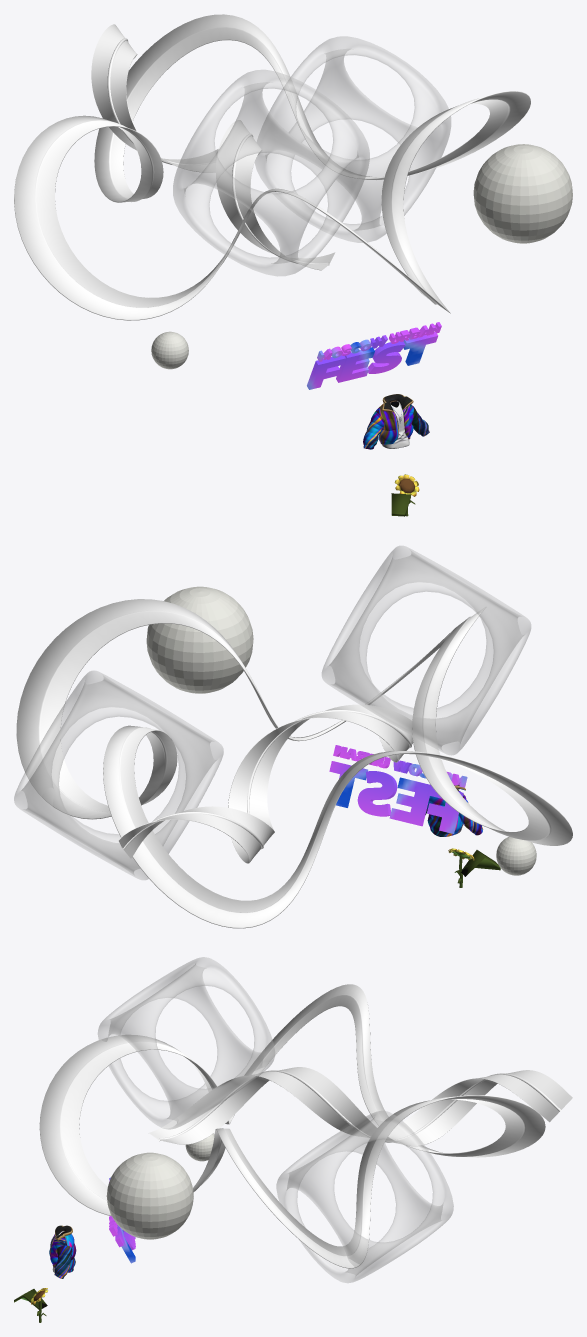
Rendered from sunflower3.gltf.
3 renders of one model, top to bottom at view 1: azimuth 30°, elevation 25°; view 2: azimuth 150°, elevation 25°; view 3: azimuth 270°, elevation 25°, orthographic. The views are drawn at different scales.
Visible parts, largest first — view 1: Object_50, Object_54, Object_56, Object_52, Object_60, Object_64, Object_11, Object_62, sunflower; view 2: Object_50, Object_54, Object_56, Object_52, Object_60, Object_64, Object_62, Object_11, sunflower; view 3: Object_50, Object_54, Object_56, Object_52, Object_60, Object_11, Object_64, Object_62.
Part boxes in pixels (x1,y1,x2,y2): Object_50: (14,14,530,320); Object_54: (173,70,369,276); Object_56: (255,36,450,242); Object_52: (91,24,335,270); Object_60: (473,144,572,243); Object_64: (307,322,441,389); Object_11: (363,394,429,449); Object_62: (151,331,188,369); sunflower: (391,474,419,516); Object_50: (16,599,572,928); Object_54: (322,546,530,755); Object_56: (14,670,223,879); Object_52: (118,704,413,863); Object_60: (146,586,253,693); Object_64: (329,745,467,833); Object_62: (496,836,536,875); Object_11: (425,785,482,836); sunflower: (448,848,500,887); Object_50: (39,984,545,1268); Object_54: (98,957,274,1129); Object_56: (276,1111,453,1282); Object_52: (149,1067,572,1146); Object_60: (106,1152,193,1239); Object_11: (49,1225,76,1278); Object_64: (109,1177,135,1263); Object_62: (185,1133,214,1161).
Size of what is drawn, in the model's own units: 8.01 by 5.89 by 8.85.
7 materials, 4 textured.
